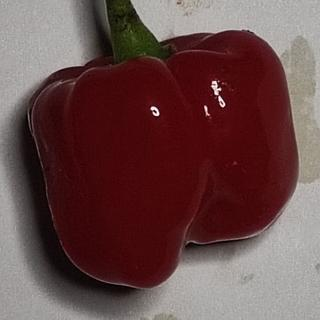Grade-B: (16, 26, 304, 295)
